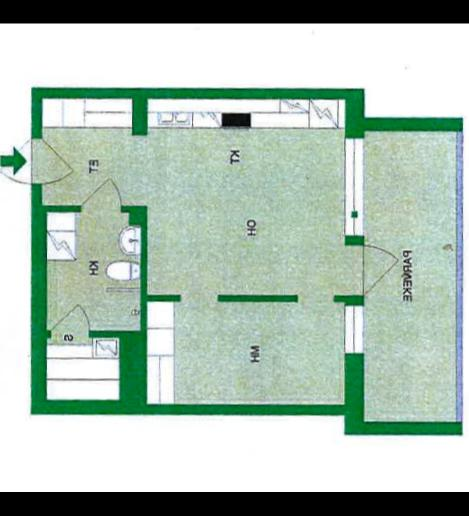bathroom: (46, 212, 140, 332)
door: (356, 243, 398, 298), (32, 133, 75, 186), (75, 179, 124, 213), (47, 305, 91, 337)
perimeter: (32, 88, 364, 418)
window: (341, 133, 363, 242), (342, 302, 364, 360)
